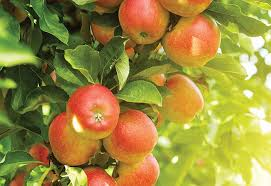apple: (48, 113, 100, 171), (171, 18, 227, 69), (64, 88, 118, 139), (109, 112, 161, 163), (159, 76, 206, 124), (117, 4, 167, 44), (108, 153, 163, 186)
